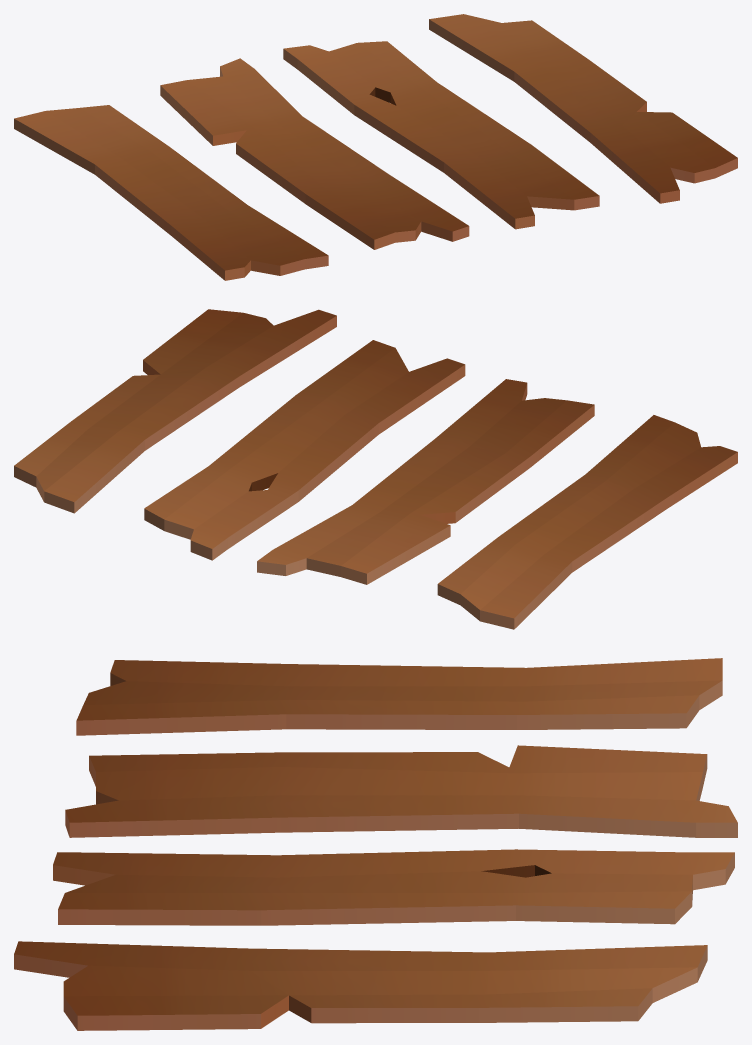
The model's file is planks_scattered.glb.
3 views of the same model, one above another, from view 1: azimuth 30°, elevation 25°; view 2: azimuth 150°, elevation 25°; view 3: azimuth 270°, elevation 25° (orthographic). The views are drawn at different scales.
Visible parts, largest first — view 1: Planks.002, Planks.001, Planks, Planks.003; view 2: Planks.002, Planks.001, Planks, Planks.003; view 3: Planks.001, Planks.003, Planks.002, Planks.
Boxes of the visible parts, x1,y1,x2,y2 form: Planks.002: [283, 41, 599, 229]; Planks.001: [160, 58, 469, 249]; Planks: [14, 105, 328, 280]; Planks.003: [429, 14, 737, 203]; Planks.002: [144, 340, 465, 560]; Planks.001: [257, 379, 594, 584]; Planks: [437, 415, 737, 629]; Planks.003: [14, 309, 336, 513]; Planks.001: [65, 745, 737, 837]; Planks.003: [14, 941, 707, 1030]; Planks.002: [53, 849, 734, 925]; Planks: [76, 658, 722, 735].
Size of the model in its own units: 2.22 by 0.0577 by 1.9.
Materials: 1 (1 with a texture image).
